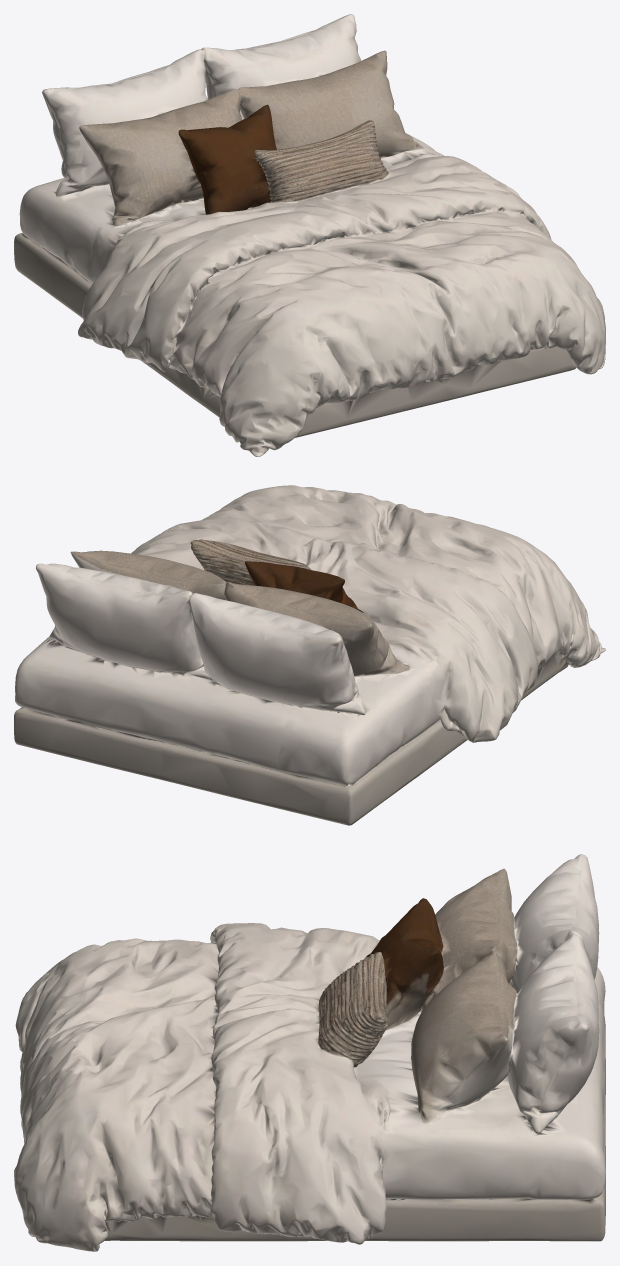
The model's file is bed.glb.
3 renders of one model, top to bottom at view 1: azimuth 30°, elevation 25°; view 2: azimuth 150°, elevation 25°; view 3: azimuth 270°, elevation 25°, orthographic. The views are drawn at different scales.
Size of the model in its own units: 1.85 by 0.7684 by 1.9.
Materials: 1 (1 with a texture image).
